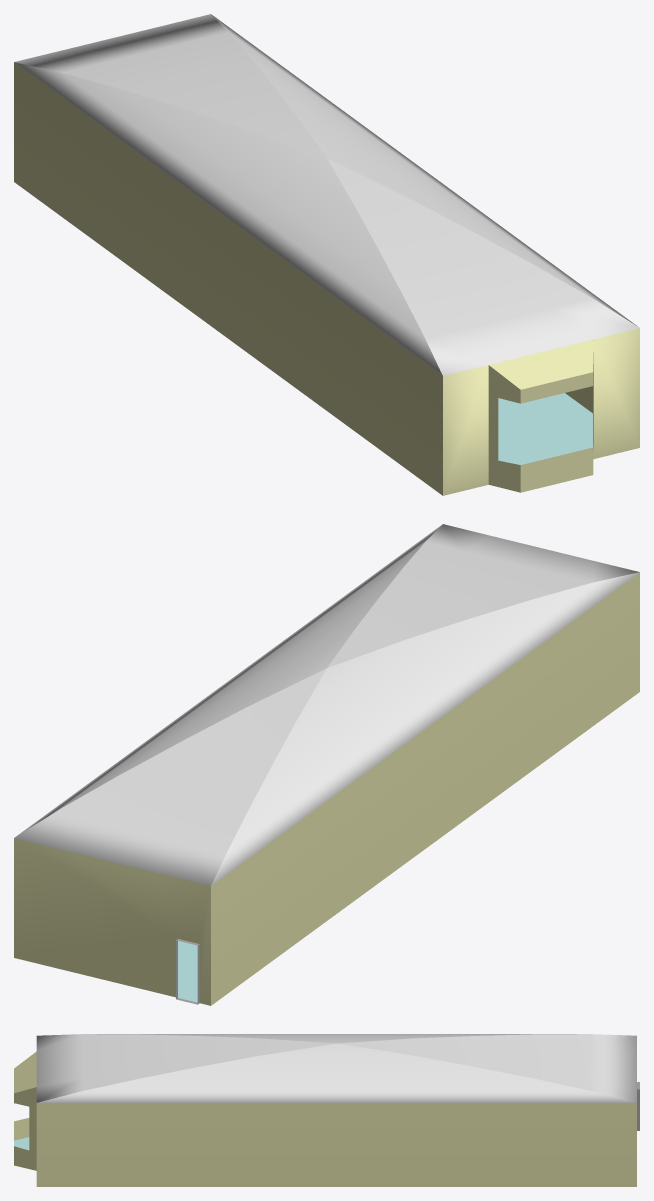
Rendered from KitchenPart2.fbx.
The picture shows the model from 3 angles, top to bottom: view 1: azimuth 30°, elevation 25°; view 2: azimuth 150°, elevation 25°; view 3: azimuth 270°, elevation 25°; orthographic projection. The views are drawn at different scales.
Visible parts, largest first — view 1: polySurface453; view 2: polySurface453; view 3: polySurface453.
Boxes of the visible parts, <box> form: polySurface453: <box>14,14,639,495</box>; polySurface453: <box>14,524,639,1005</box>; polySurface453: <box>14,1034,639,1186</box>.
Size of the model in its own units: 6.91 by 5.25 by 27.16.
